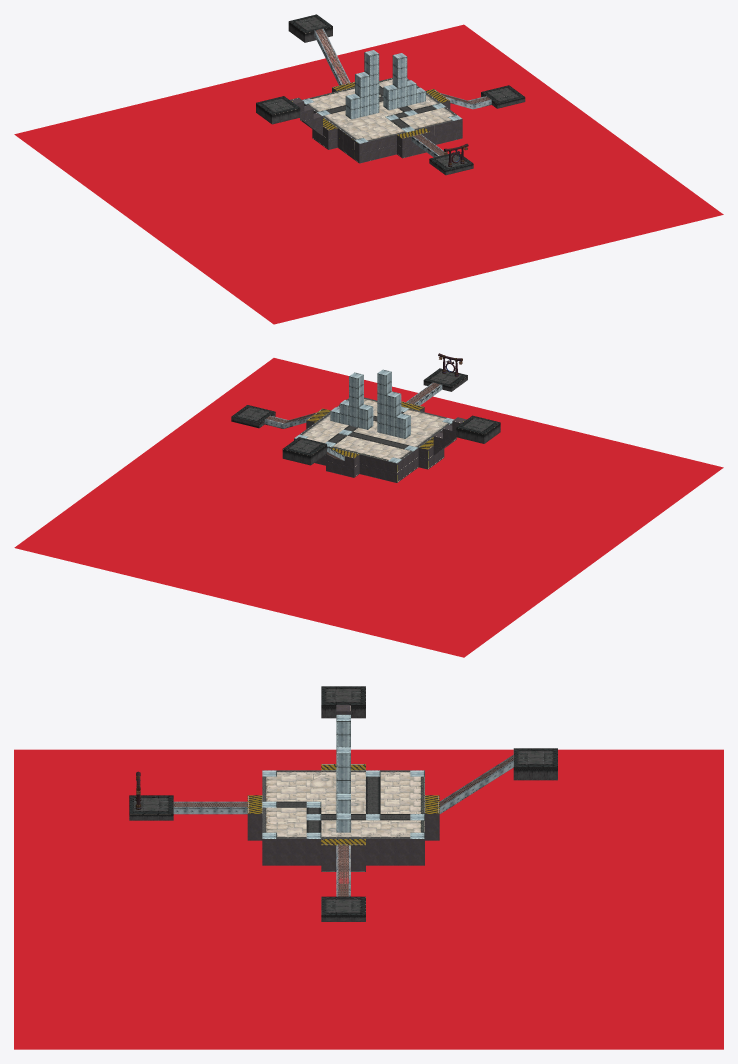
Rendered from test-zone2.glb.
3 renders of one model, top to bottom at view 1: azimuth 30°, elevation 25°; view 2: azimuth 150°, elevation 25°; view 3: azimuth 270°, elevation 25°, orthographic. The views are drawn at different scales.
Visible parts, largest first — view 1: DeathPlane, Frame_0.016; view 2: DeathPlane, Frame_0.016; view 3: DeathPlane, Frame_0.016.
Part boxes in pixels (x1,y1,x2,y2): DeathPlane: (14, 24, 723, 324); Frame_0.016: (256, 14, 525, 175); DeathPlane: (14, 358, 723, 657); Frame_0.016: (231, 368, 500, 482); DeathPlane: (14, 749, 723, 1049); Frame_0.016: (129, 686, 557, 921).
Size of what is drawn, in the model's own units: 240 by 66.19 by 240.
14 materials, 13 textured.
